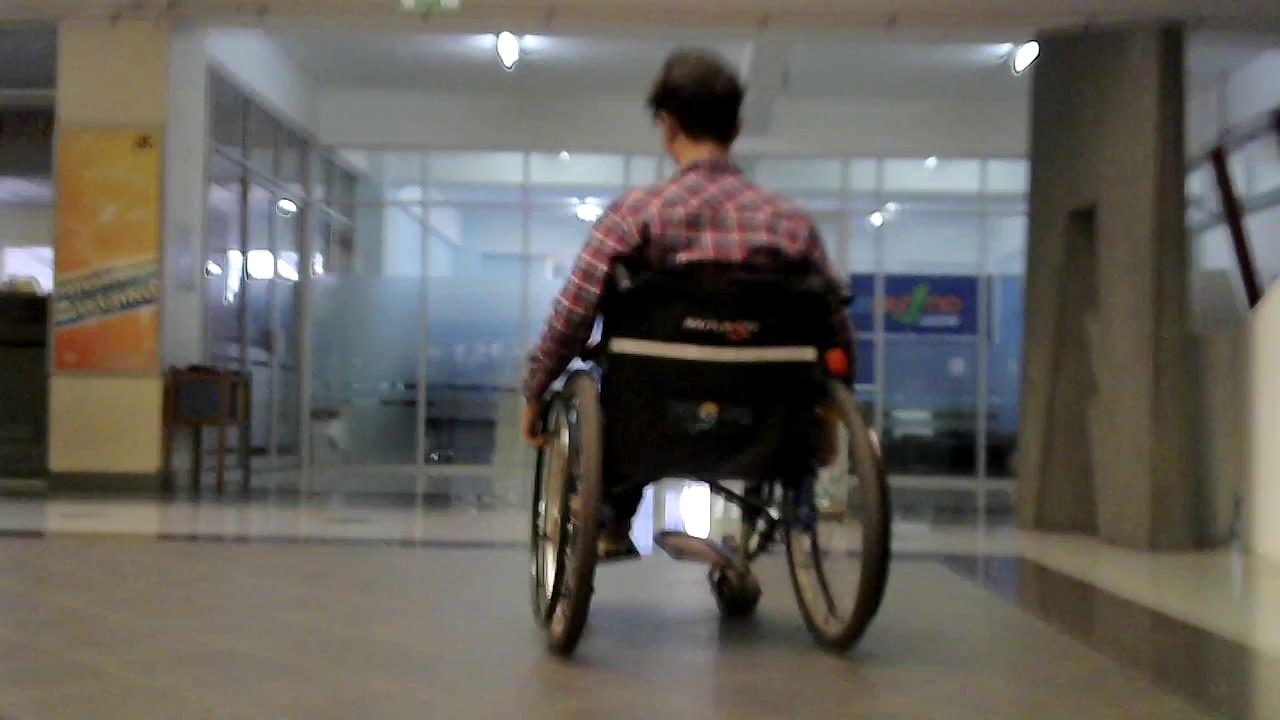person: (518, 46, 859, 647)
wheelchair: (513, 237, 914, 683)
